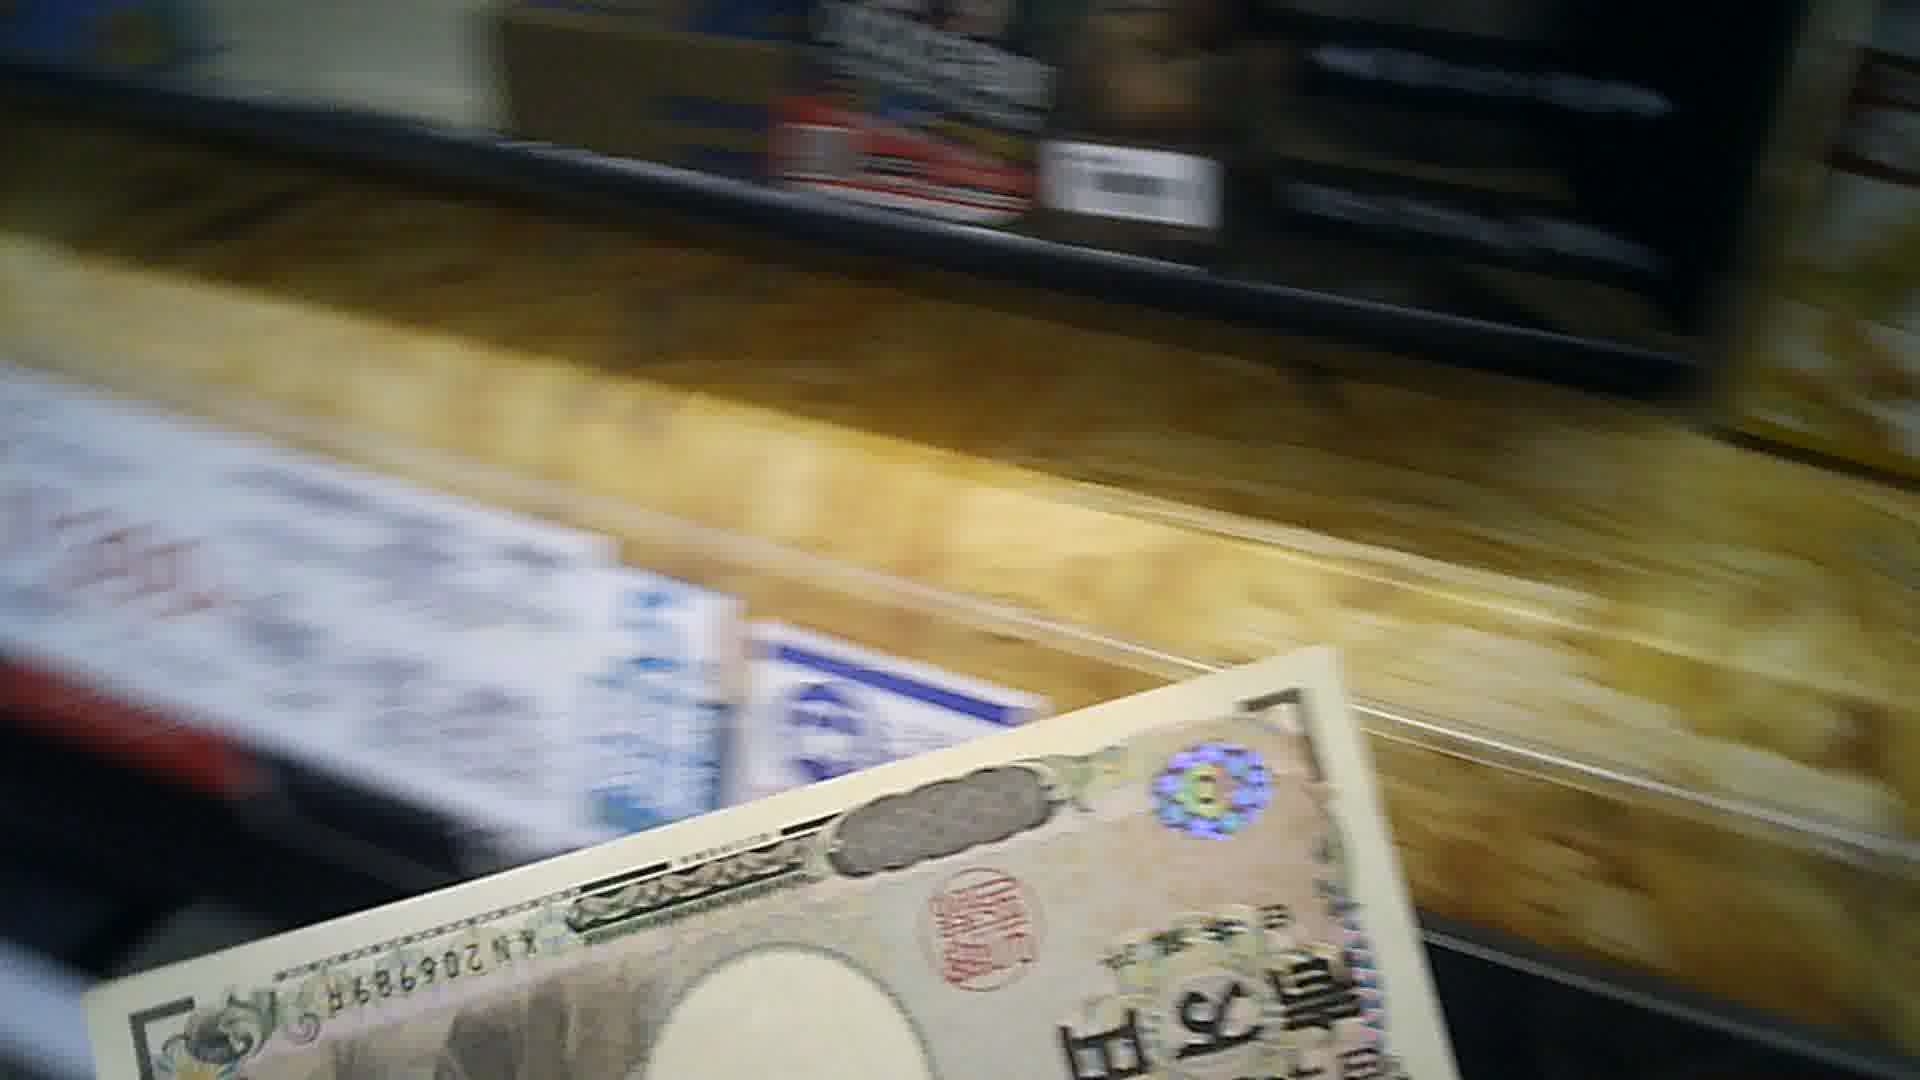10,000 Yen: (51, 655, 1460, 1079)
